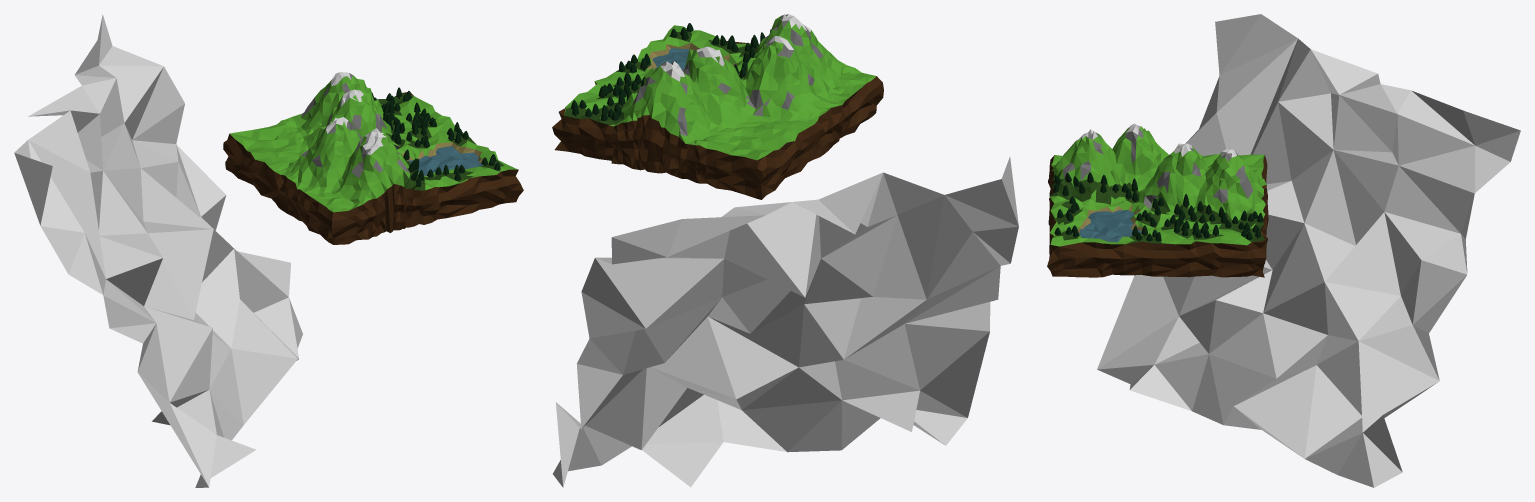
File: Terrain.dae
The picture shows the model from 3 angles, left to right: view 1: azimuth 30°, elevation 25°; view 2: azimuth 150°, elevation 25°; view 3: azimuth 270°, elevation 25°; orthographic projection. The views are drawn at different scales.
Parts seen in each view (by area): view 1: Plane_003, Plane, Plane_001; view 2: Plane_003, Plane; view 3: Plane_003, Plane, Plane_001.
Boxes of the visible parts, x1,y1,x2,y2 form: Plane_003: (14, 14, 302, 487); Plane: (223, 72, 523, 244); Plane_001: (408, 146, 482, 175); Plane_003: (553, 157, 1018, 487); Plane: (552, 14, 883, 199); Plane_003: (1097, 14, 1520, 487); Plane: (1047, 123, 1268, 277); Plane_001: (1079, 210, 1141, 242).
Size of the model in its own units: 224 by 230 by 182.
